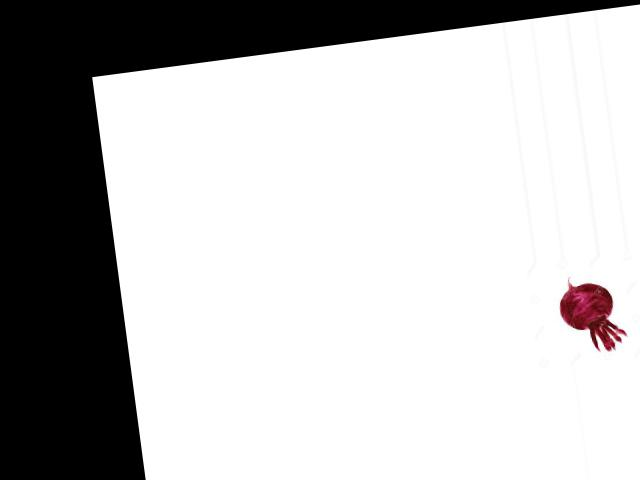beet: (555, 269, 628, 356)
